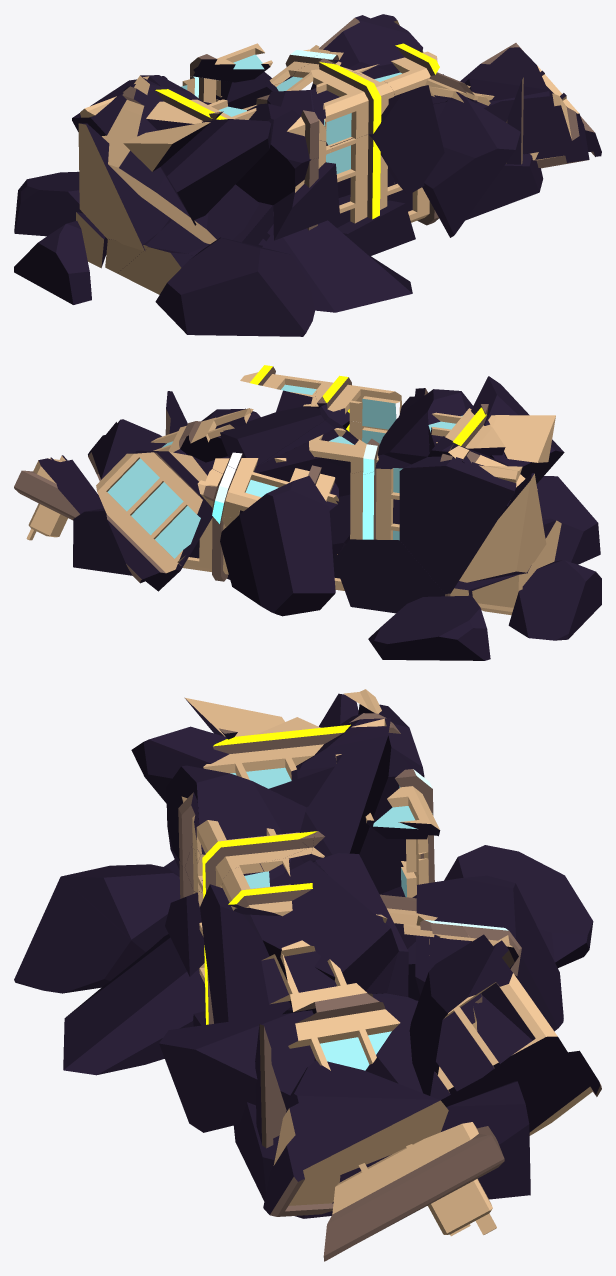
File: Building5.fbx
The picture shows the model from 3 angles, top to bottom: view 1: azimuth 30°, elevation 25°; view 2: azimuth 150°, elevation 25°; view 3: azimuth 270°, elevation 25°; orthographic projection. The views are drawn at different scales.
Parts seen in each view (by area): view 1: Laydown Destroy; view 2: Laydown Destroy; view 3: Laydown Destroy.
Boxes of the visible parts, left/top/right/bottom form: Laydown Destroy: left=14, top=14, right=601, bottom=336; Laydown Destroy: left=14, top=365, right=601, bottom=660; Laydown Destroy: left=14, top=689, right=601, bottom=1261.
Size of the model in its own units: 1806 by 550 by 1150.
